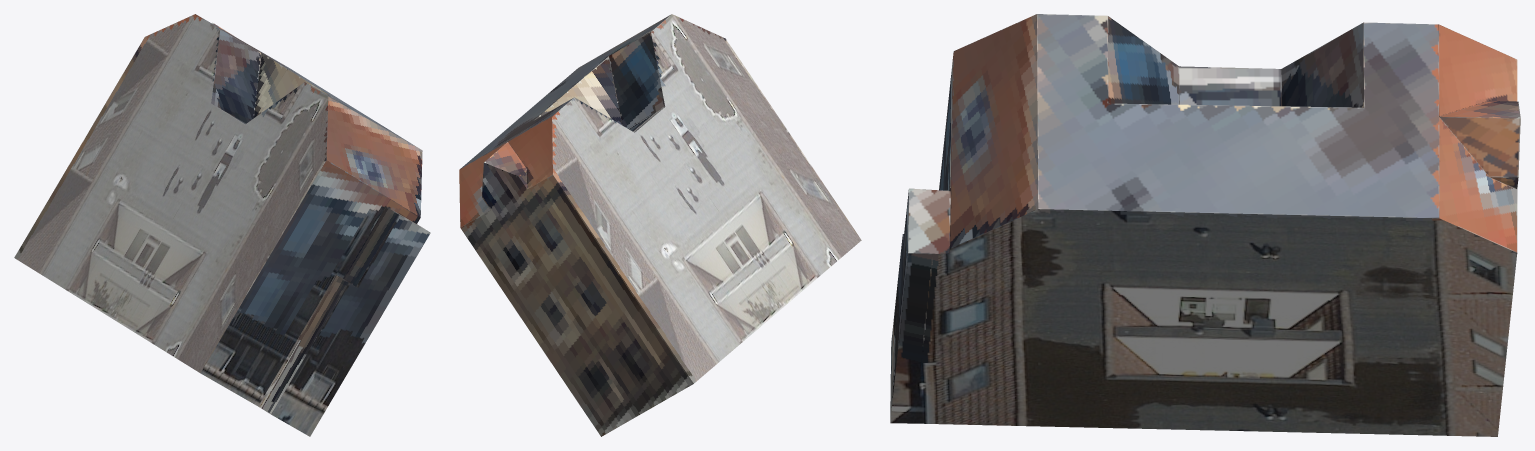
The picture shows the model from 3 angles, left to right: view 1: azimuth 30°, elevation 25°; view 2: azimuth 150°, elevation 25°; view 3: azimuth 270°, elevation 25°; orthographic projection. The views are drawn at different scales.
Parts seen in each view (by area): view 1: BAG_0599100000670798 (×2); view 2: BAG_0599100000670798 (×2); view 3: BAG_0599100000670798 (×3).
Boxes of the visible parts, bbox=[...] form: BAG_0599100000670798 (×2): bbox=[14, 14, 430, 436]; BAG_0599100000670798 (×2): bbox=[459, 14, 861, 436]; BAG_0599100000670798 (×3): bbox=[890, 14, 1520, 436].
Size of the model in its own units: 12.89 by 14.25 by 16.96.
1 material, 1 textured.
